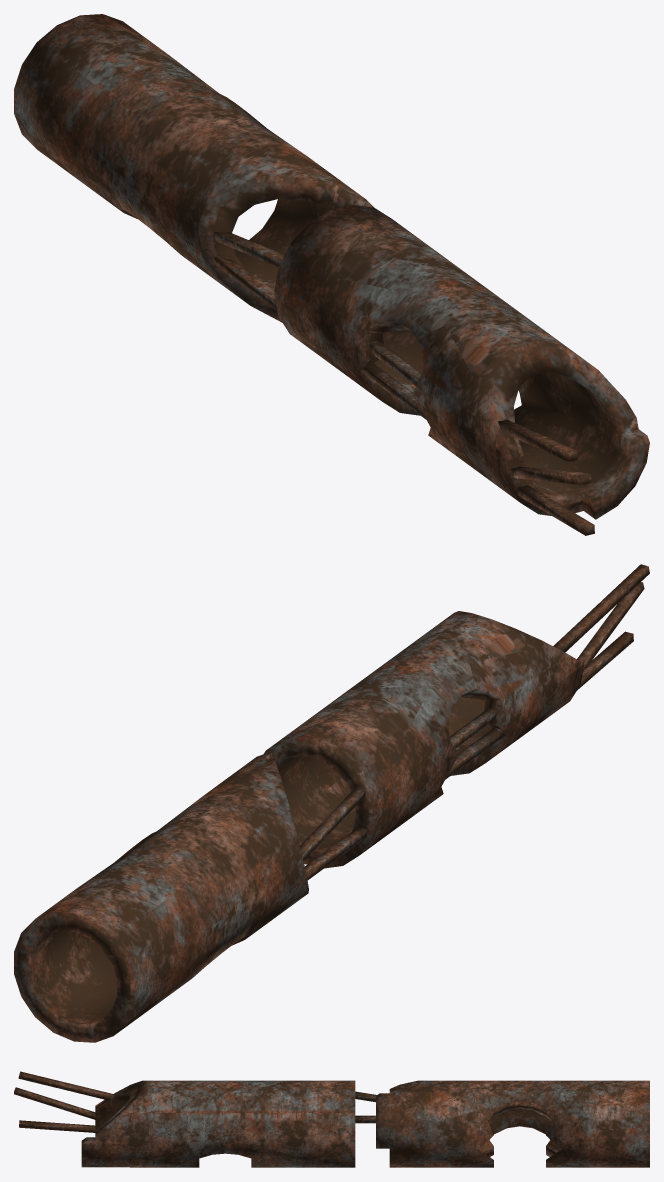
File: tuberia_4.obj
3 renders of one model, top to bottom at view 1: azimuth 30°, elevation 25°; view 2: azimuth 150°, elevation 25°; view 3: azimuth 270°, elevation 25°, orthographic. The views are drawn at different scales.
Parts seen in each view (by area): view 1: tuberia_001; view 2: tuberia_001; view 3: tuberia_001.
Part boxes in pixels (<box>): tuberia_001: <box>14,14,649,535</box>; tuberia_001: <box>14,564,649,1042</box>; tuberia_001: <box>14,1071,649,1167</box>.
Size of the model in its own units: 23.54 by 22.8 by 166.
Materials: 1 (1 with a texture image).
